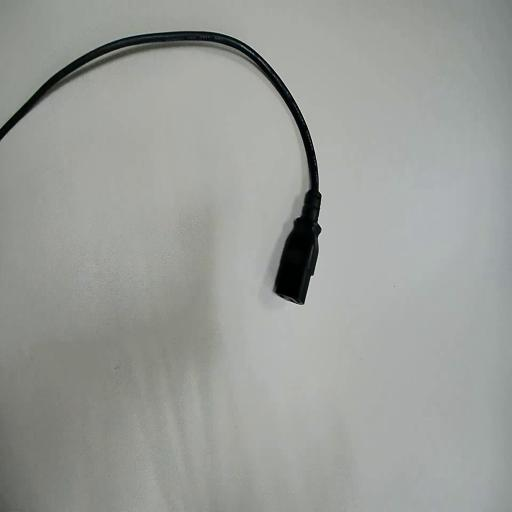wire: (0, 32, 319, 302)
